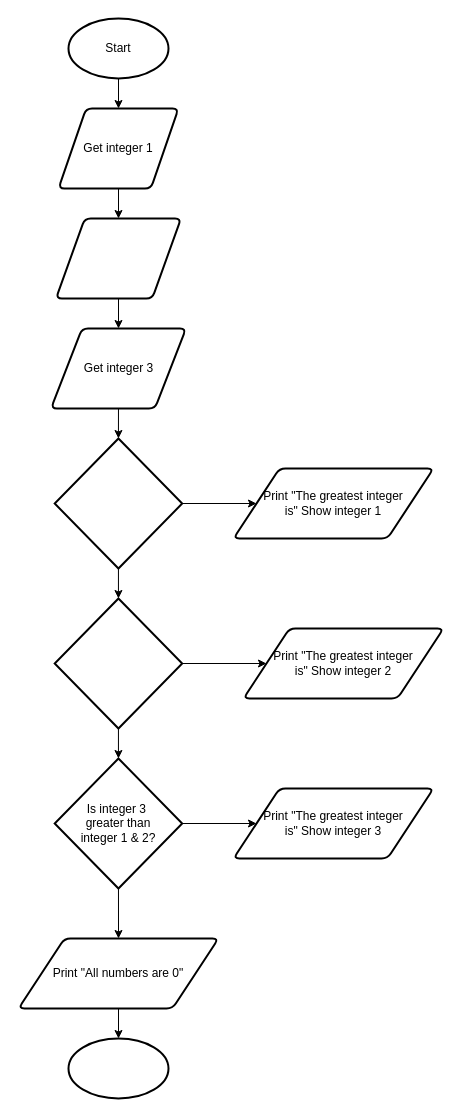
The diagram is 461 pixels wide and 1116 high, and some of its shapes have lost their labels. The shapes that lost their labels are listed below. From the top down, each one's centre as x and y in pixels, then its label:
(x=118, y=258): Get integer 2
(x=118, y=503): Is integer 1 greater than integer 2 & 3?
(x=118, y=663): Is integer 2 greater than integer 1 & 3?
(x=118, y=1068): Stop
